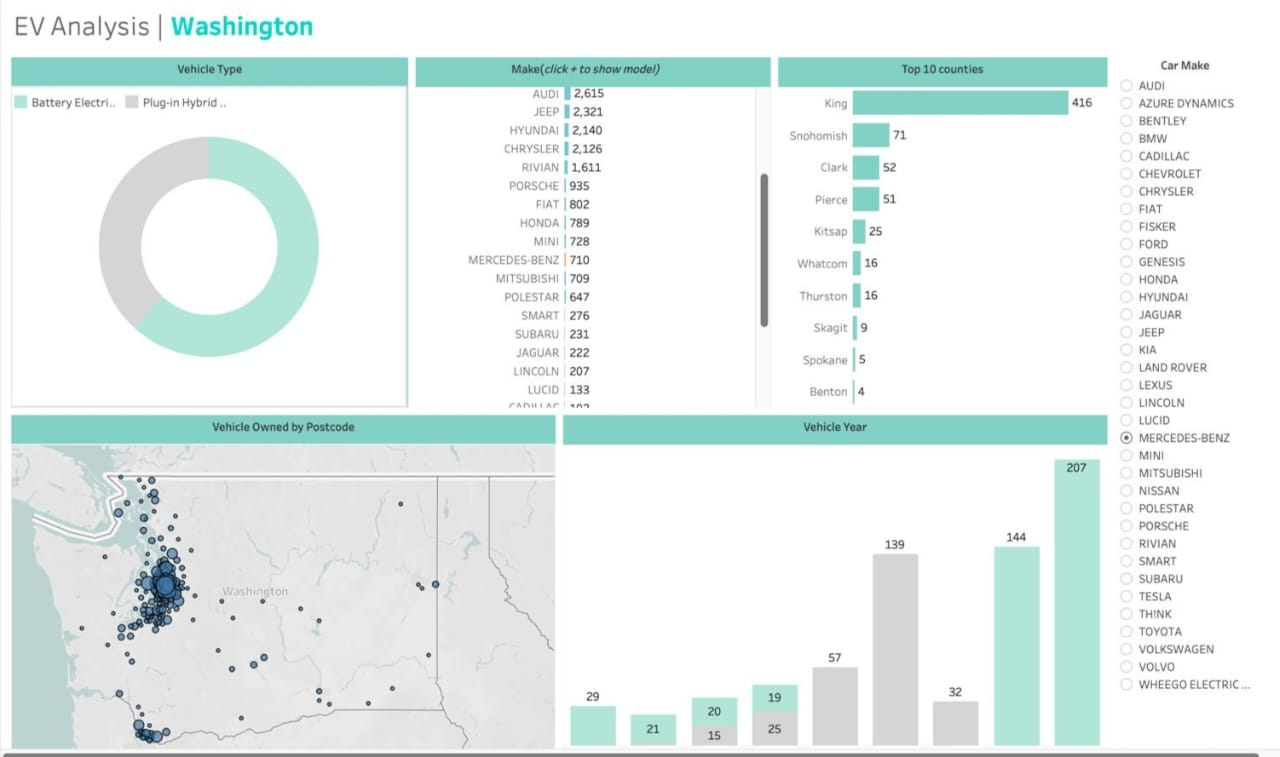

This screenshot's page, from the dashboard's own definition file:
{"tool":"tableau","page":{"name":"Dashboard 1","canvas":[1300,850],"ordinal":0},"visuals":[{"type":"text","box":[8,8,1284,62.1]},{"type":"worksheet","title":"Vehicle Type Donut","mark":"Pie","rows":["Calculation_0354000409198594","Calculation_0354000409198594"],"box":[8,70.1,399.7,386]},{"type":"worksheet","title":"Make & Model","mark":"Automatic","rows":["Make"],"cols":["DOL Vehicle ID"],"box":[407.7,70.1,358.5,386]},{"type":"worksheet","title":"Top 10 Counties","mark":"Automatic","rows":["County"],"cols":["DOL Vehicle ID"],"box":[766.2,70.1,332.8,386]},{"type":"parameter","param":"[Parameters].[Parameter 1]","box":[1099,70.1,193,702]},{"type":"legend","title":"Vehicle Type Donut","param":"[federated.0u8l1bv1nl4miz18bntms160w3fm].[none:Electric Vehicle Type:nk]","box":[10.5,111.8,407.3,34.3]},{"type":"worksheet","title":"Map","mark":"Automatic","box":[8,456.1,545.5,386]},{"type":"worksheet","title":"Year and Type","mark":"Bar","rows":["DOL Vehicle ID"],"cols":["Model Year"],"box":[553.5,456.1,545.5,386]}]}

Visuals, with their boxes on the page's 1300x850 design canvas (x1, y1, x2, y2). These are canvas units, not pixel positions in the 1280x757 screenshot, which may show the page scaled, cropped or inside an application window:
text: 8/8/1292/70
"Vehicle Type Donut" worksheet (Pie marks): 8/70/408/456
"Make & Model" worksheet: 408/70/766/456
"Top 10 Counties" worksheet: 766/70/1099/456
parameter: 1099/70/1292/772
"Vehicle Type Donut" legend: 10/112/418/146
"Map" worksheet: 8/456/554/842
"Year and Type" worksheet (Bar marks): 554/456/1099/842
